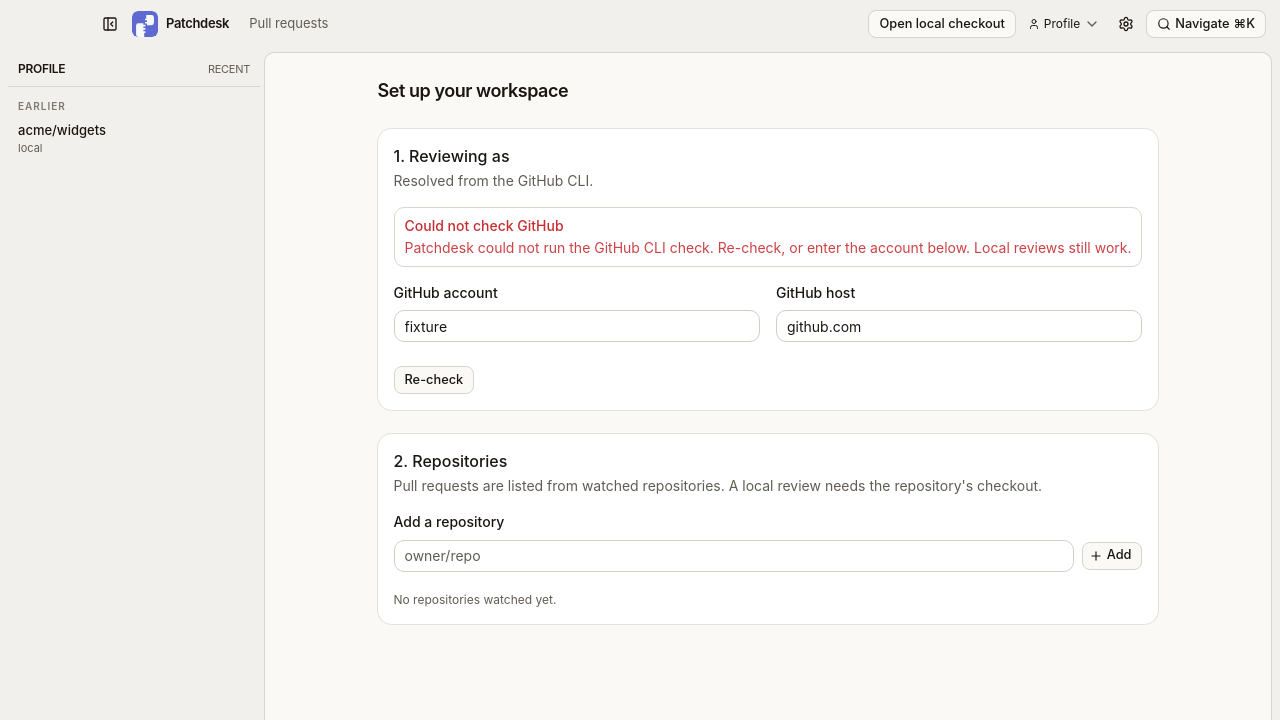
Test: App visited local Review › opens the one shared Review of the checkout's current branch from a repository's local row
Click the button "acme/widgets local" at [134, 139], box x1=8 y1=116 x2=260 y2=162
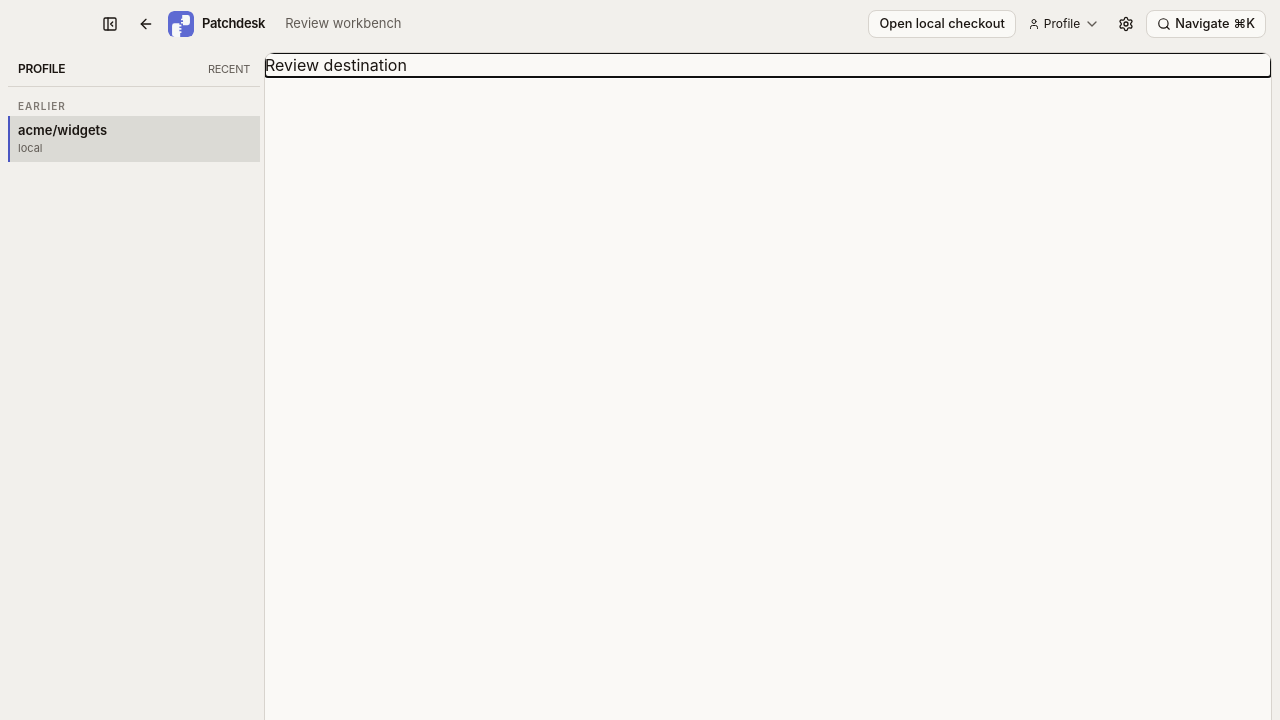
Expected: the heading "Review destination" is shown, x1=265 y1=55 x2=407 y2=75
